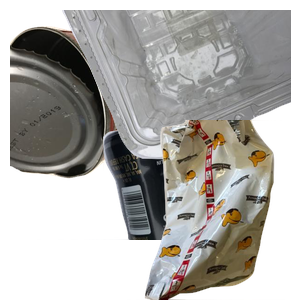glass: (37, 120, 231, 300)
metal: (10, 23, 193, 194)
plastic: (60, 10, 300, 162)
trash: (127, 120, 300, 300)
